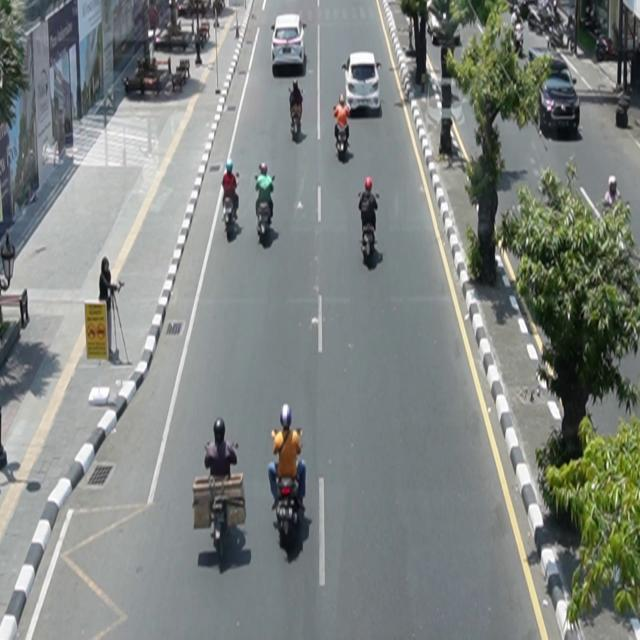car: (342, 51, 383, 115), (271, 13, 308, 68)
